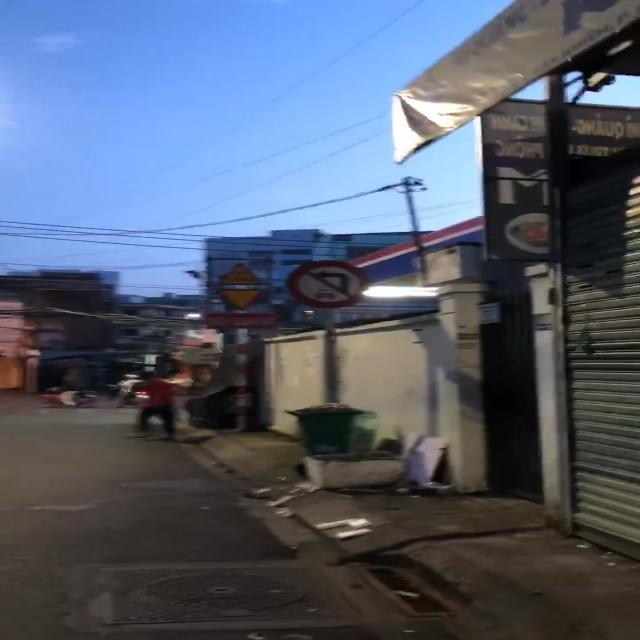Bien bao cam xe o to re trai: (280, 257, 380, 311)
Bien bao giao nhau voi duong uu tien: (209, 286, 269, 312)
